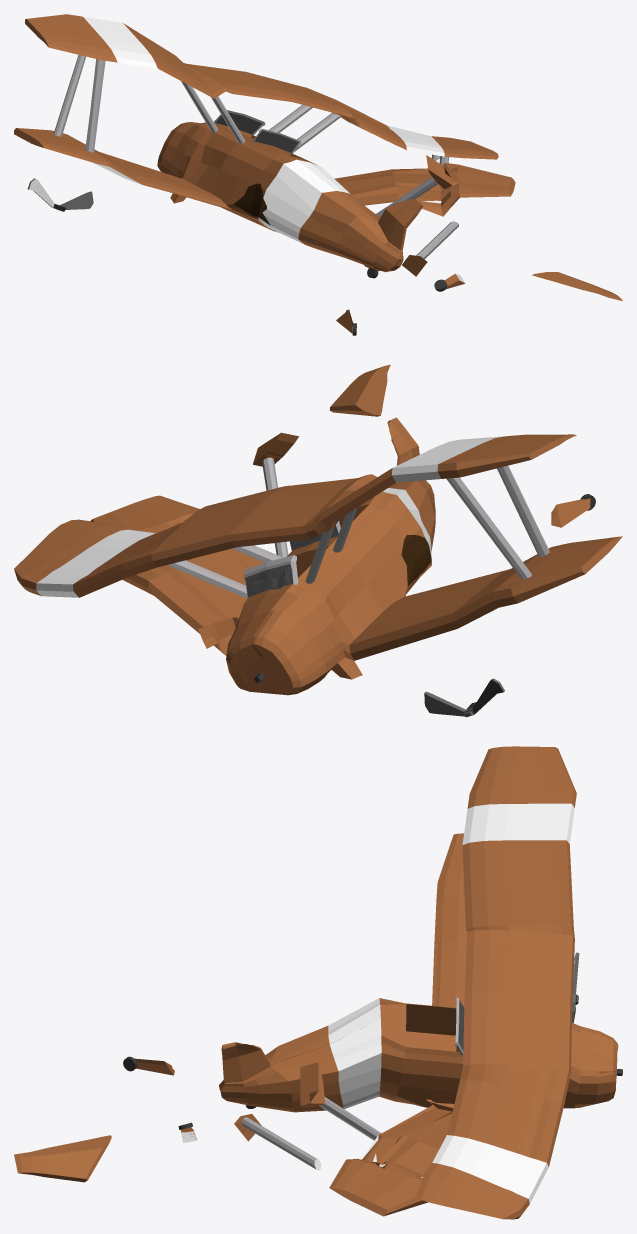
The model's file is Gleiter_Absturz.fbx.
The picture shows the model from 3 angles, top to bottom: view 1: azimuth 30°, elevation 25°; view 2: azimuth 150°, elevation 25°; view 3: azimuth 270°, elevation 25°; orthographic projection. The views are drawn at different scales.
Visible parts, largest first — view 1: halber Flügel_crash.002; view 2: halber Flügel_crash.002; view 3: halber Flügel_crash.002.
Part boxes in pixels (x1=…): halber Flügel_crash.002: x1=14, y1=14, x2=622, y2=335; halber Flügel_crash.002: x1=14, y1=364, x2=622, y2=717; halber Flügel_crash.002: x1=14, y1=746, x2=622, y2=1219.
Bounding box in the file's own units: 1061 × 515 × 1093.
